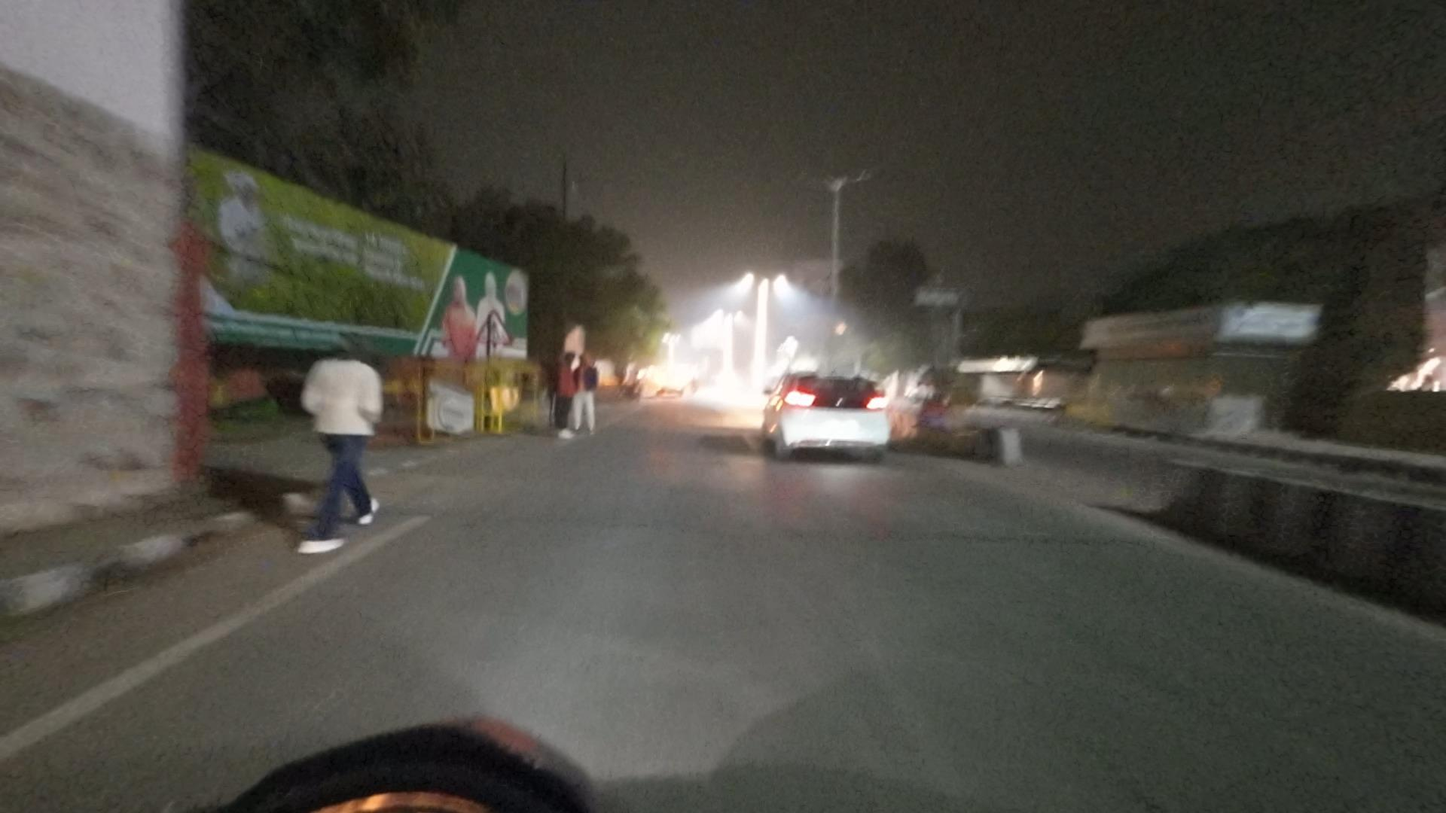streetlight: (790, 162, 827, 189), (838, 166, 876, 186)
